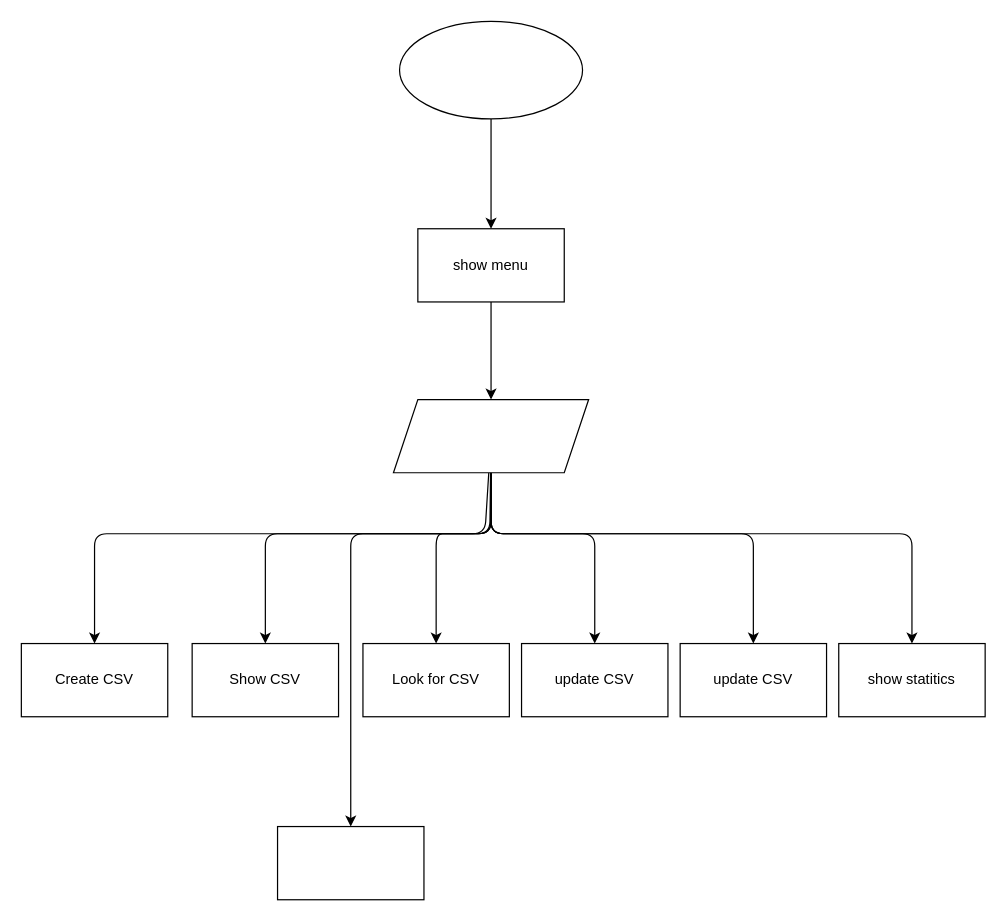
The diagram is 1007 pixels wide and 921 high, and some of its shapes have lost their labels. Each missing label, with the box of its shape:
Enter option: (392, 398, 589, 473)
Start: (398, 20, 583, 119)
